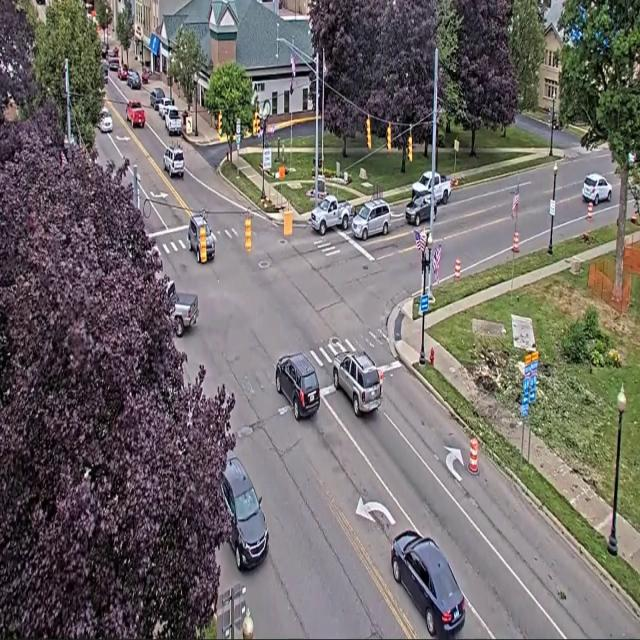car: (391, 530, 465, 637), (222, 455, 268, 570), (333, 352, 382, 415), (275, 353, 320, 420), (352, 200, 390, 240), (187, 214, 215, 263), (582, 174, 611, 206), (406, 194, 430, 225), (163, 145, 184, 177), (157, 96, 174, 119), (150, 87, 165, 111), (99, 110, 112, 133), (127, 71, 141, 89), (118, 64, 128, 81), (108, 57, 119, 71), (141, 70, 150, 84), (103, 61, 108, 84), (101, 43, 108, 58), (110, 47, 119, 57)
traffic signal: (198, 226, 207, 263), (244, 214, 252, 252), (366, 117, 371, 149), (253, 112, 259, 135), (387, 124, 391, 151), (408, 134, 412, 161), (218, 111, 222, 136)
truck: (167, 280, 198, 337), (310, 195, 352, 235), (412, 171, 451, 204), (126, 101, 145, 127), (165, 107, 181, 135)
